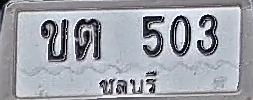0: (170, 14, 190, 56)
3: (197, 13, 218, 55)
5: (142, 16, 164, 57)
A02: (41, 19, 68, 62)
A21: (74, 18, 102, 61)
CBI: (97, 68, 157, 97)
